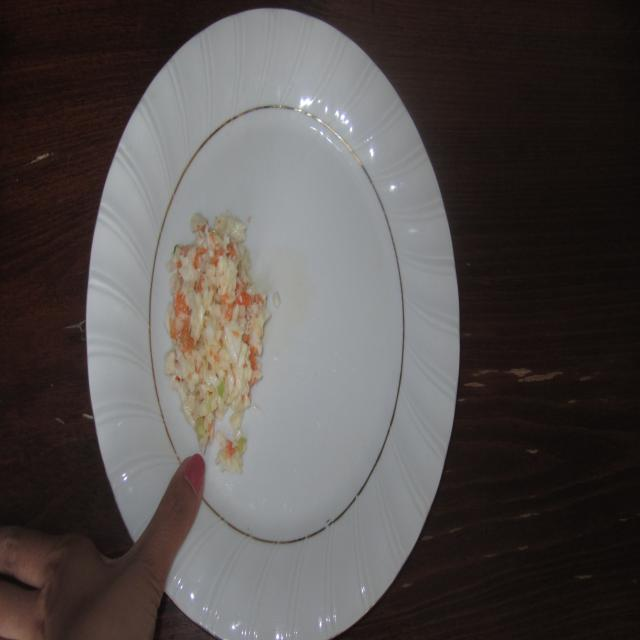vegatable salad: (163, 198, 301, 456)
